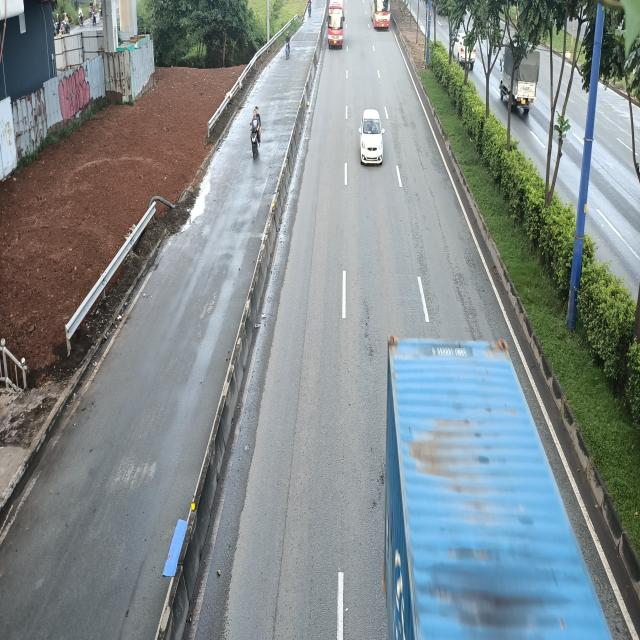car: (357, 110, 384, 166)
coach: (327, 0, 348, 50)
